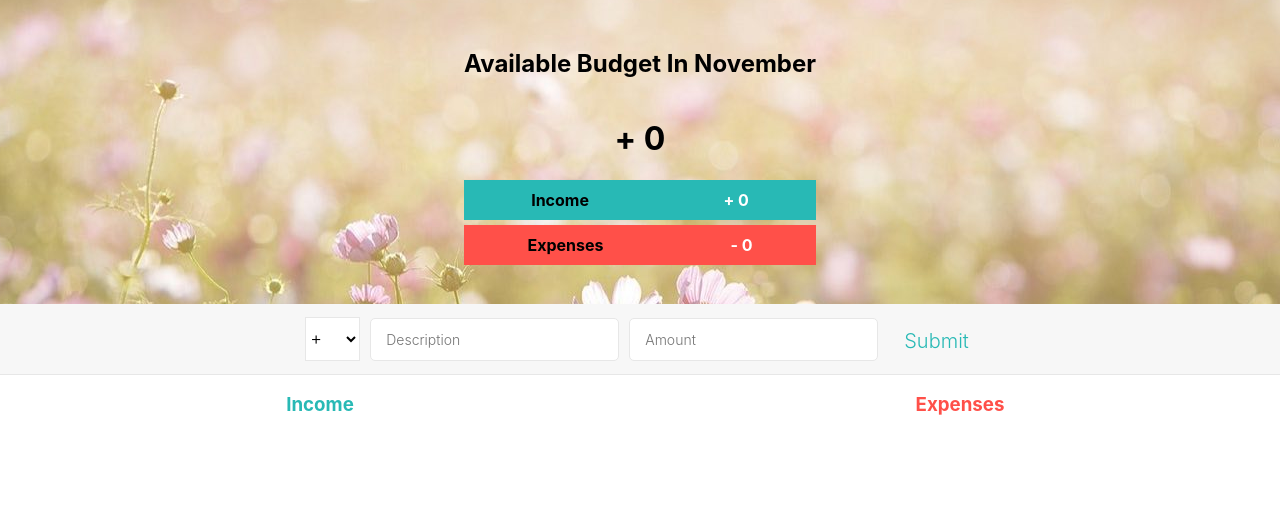
Test: App Component Integration › adds expense and updates budget correctly
Add expense
Select "-" in the dropdown at (333, 338), box [305, 316, 360, 360]
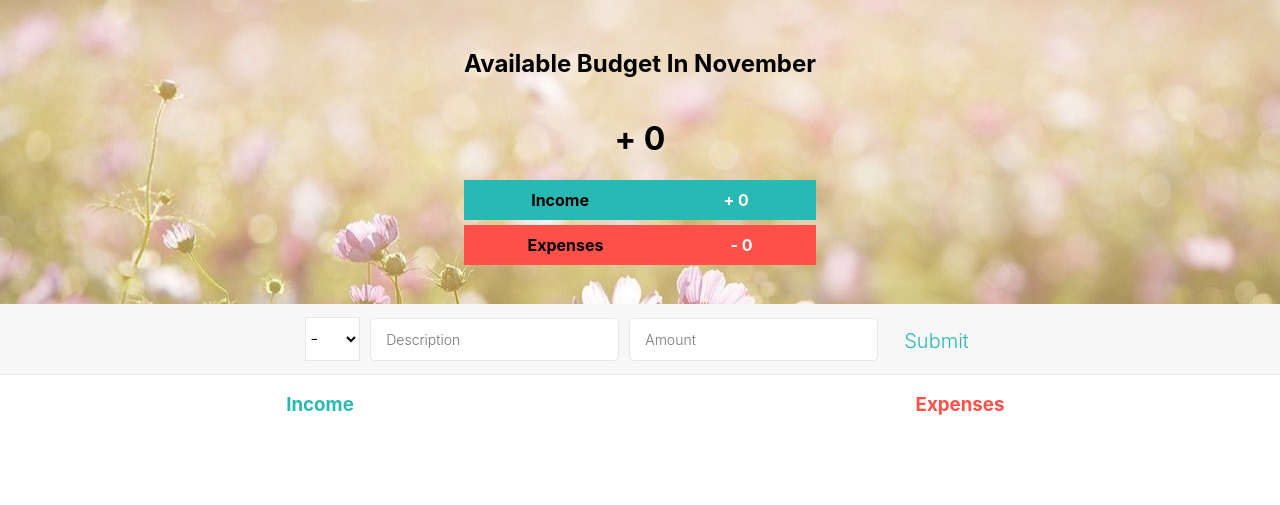
Type "Rent" into the field with placeholder "Description" at (495, 340), box [370, 318, 619, 361]
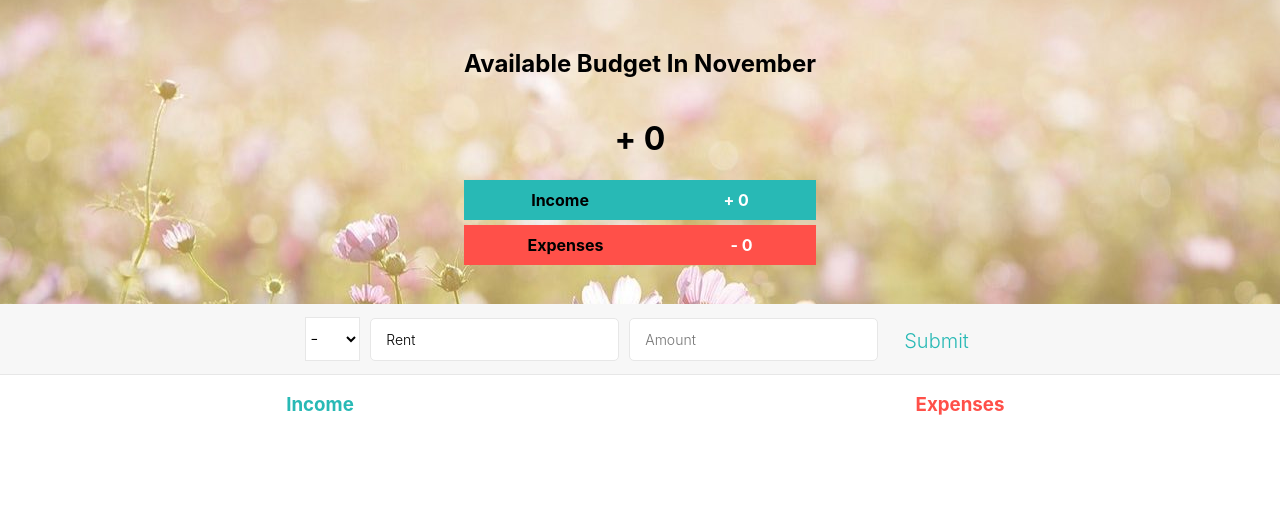
Type "1000" into the number field with placeholder "Amount" at (754, 340), box [629, 318, 878, 361]
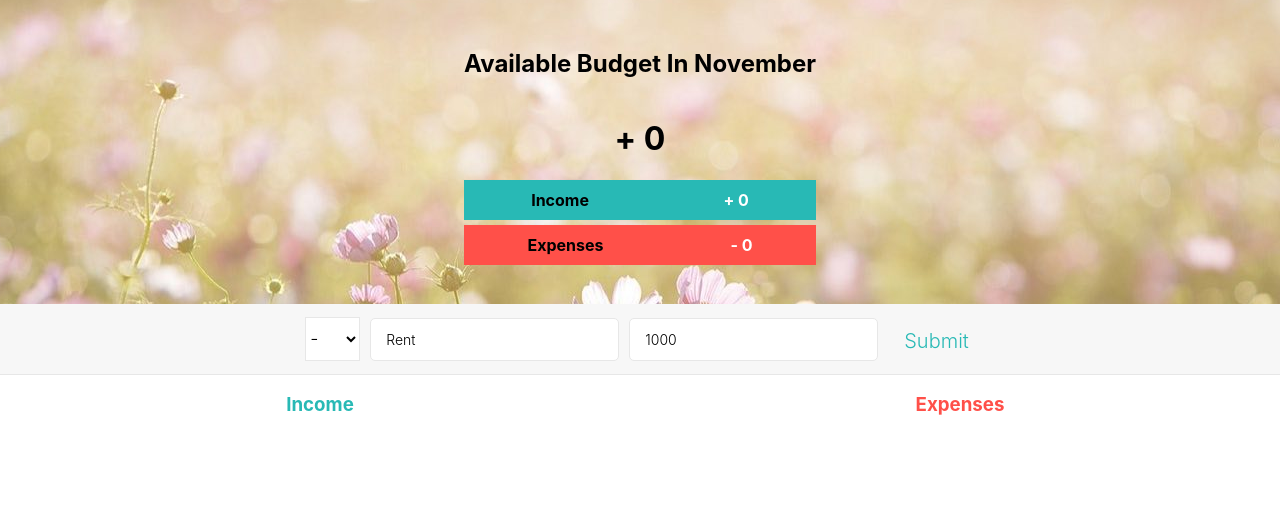
Click the button "Submit" at (936, 341), box [898, 329, 975, 353]
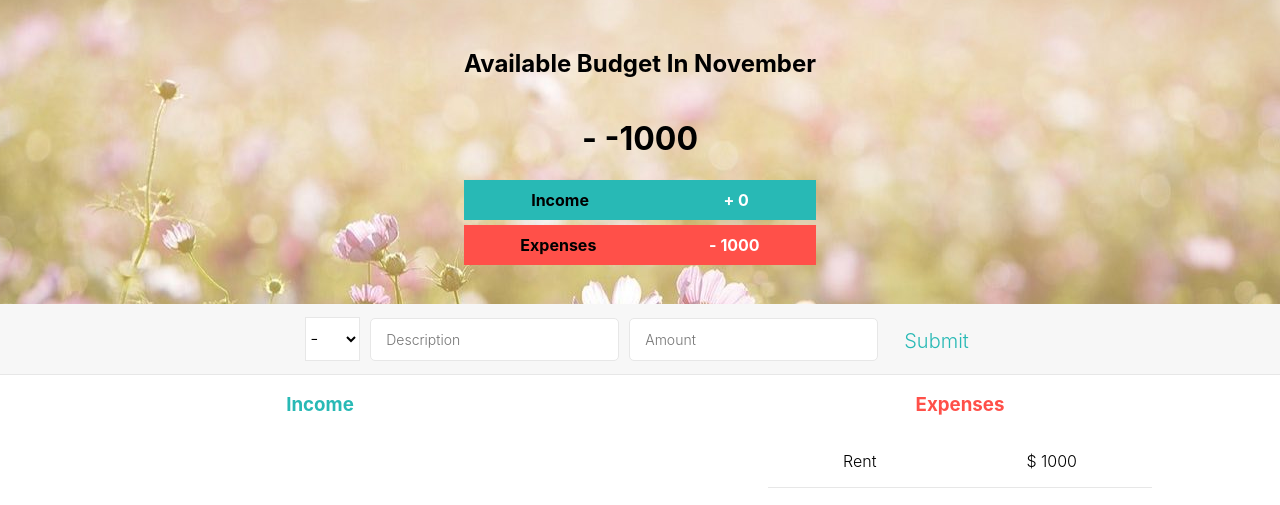
Expected: the heading "- 1000" is shown, [709, 235, 760, 255]
Expected: the text "Rent" is shown, [843, 451, 876, 471]
Expected: the text "$ 1000" is shown, [1026, 451, 1077, 471]
